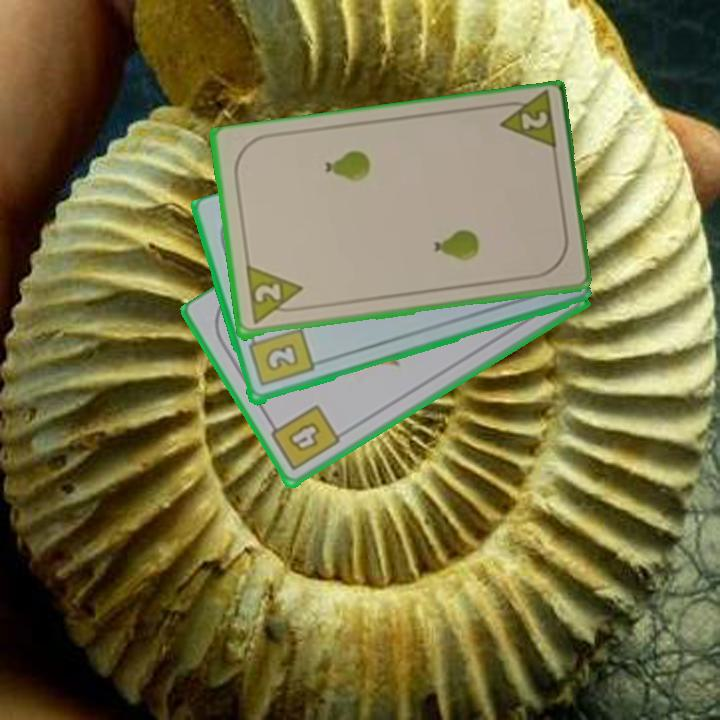2b: (245, 325, 316, 390)
2p: (492, 91, 559, 156), (242, 264, 307, 328)
4b: (264, 401, 343, 474)
